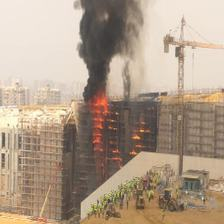fire: (73, 21, 151, 170)
